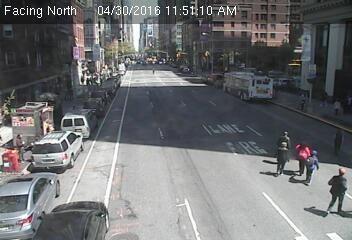neg: (225, 132, 253, 170), (177, 116, 205, 154), (237, 75, 260, 105), (252, 12, 272, 39), (263, 70, 281, 93), (193, 28, 210, 51), (311, 33, 328, 55), (34, 112, 49, 132), (136, 24, 151, 44), (164, 29, 179, 49), (77, 22, 90, 40), (294, 29, 306, 46), (128, 58, 140, 75), (112, 44, 124, 60), (214, 22, 226, 38), (227, 19, 239, 35), (55, 23, 66, 38), (69, 46, 79, 59), (20, 29, 29, 42), (35, 56, 43, 66), (1, 27, 8, 38)
pos: (320, 167, 351, 216), (299, 147, 328, 186), (268, 141, 296, 178), (8, 132, 31, 164), (327, 127, 349, 158), (316, 87, 333, 110), (296, 93, 311, 113), (332, 98, 344, 114), (79, 75, 88, 86), (150, 67, 157, 76)
